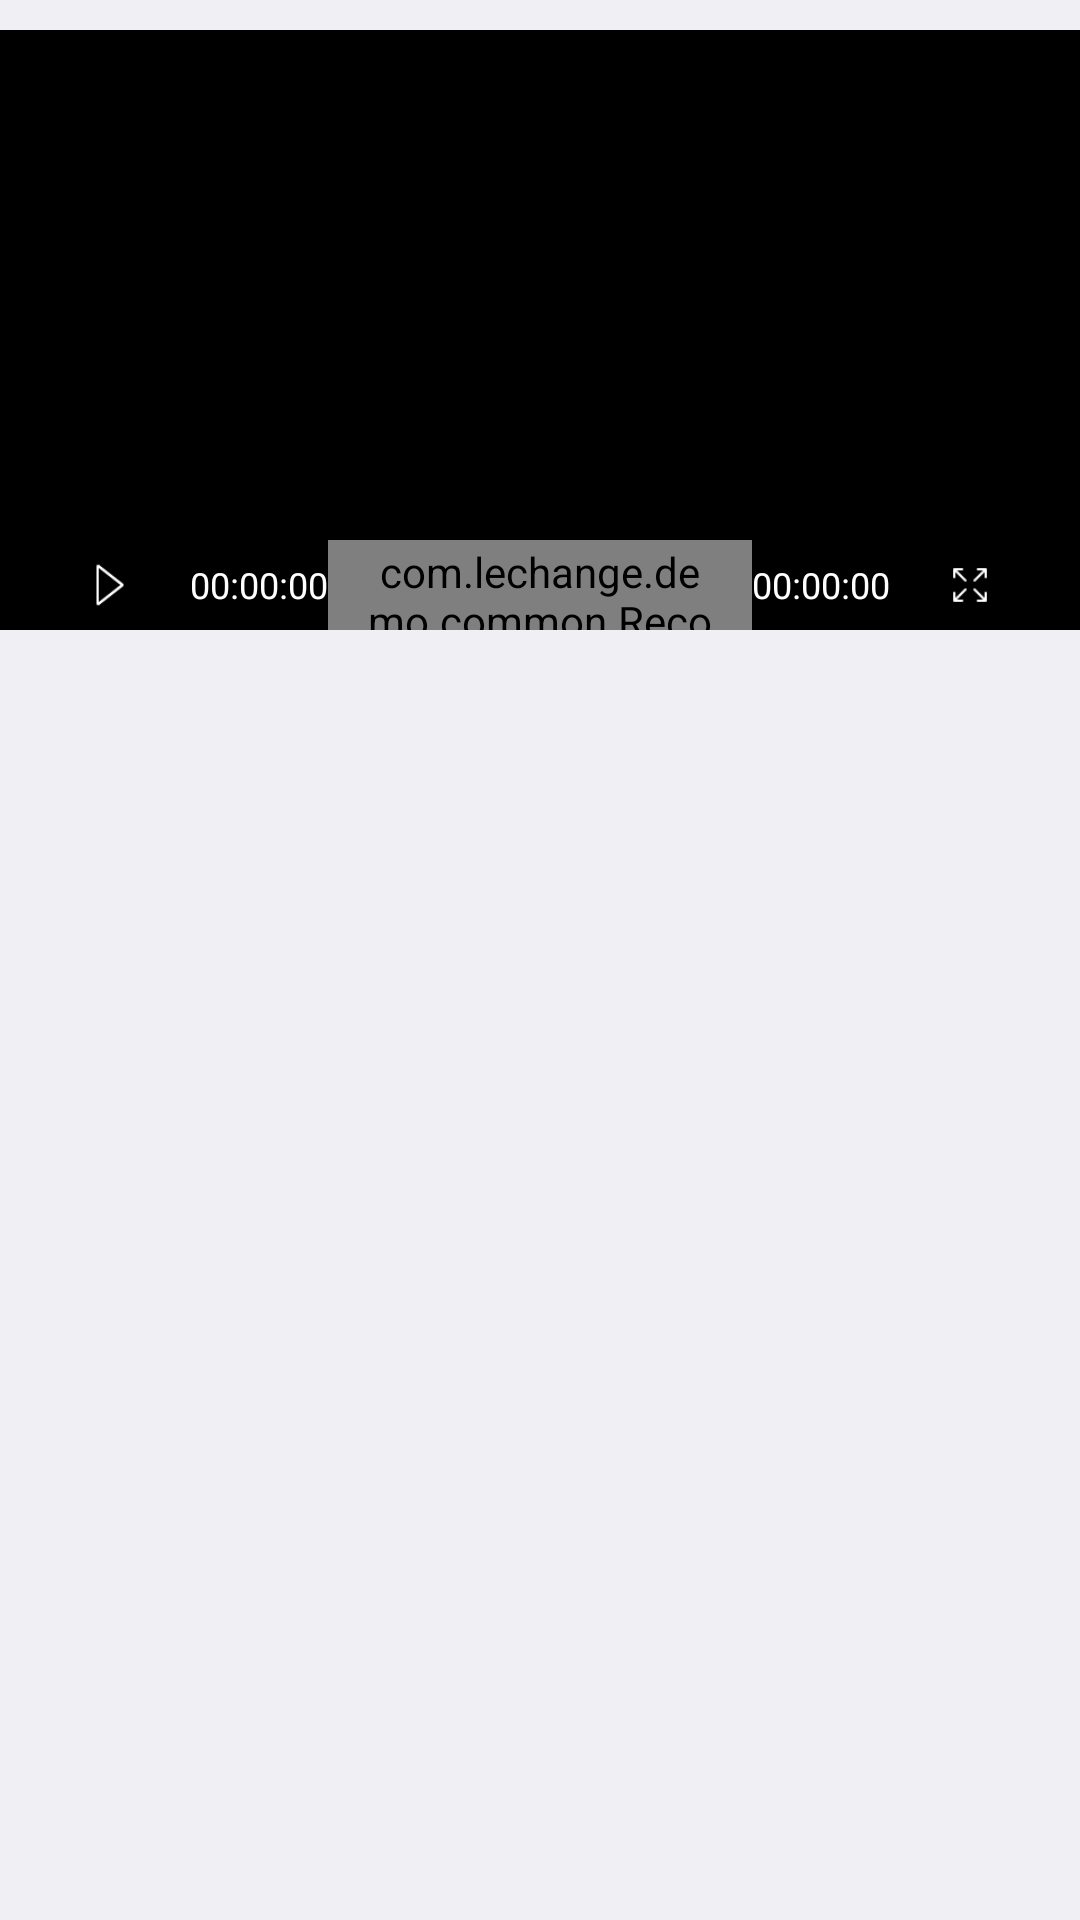

Point at icon controls on the screen. Image size 1080px x 1920px, points as (x=x, y=y).
record fullscreen: (x=970, y=585)
record play: (x=110, y=585)
